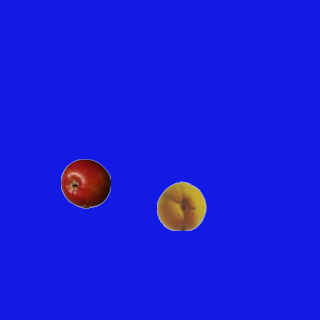Apple Braeburn: (60, 158, 110, 208)
Peach 2: (156, 180, 206, 230)
